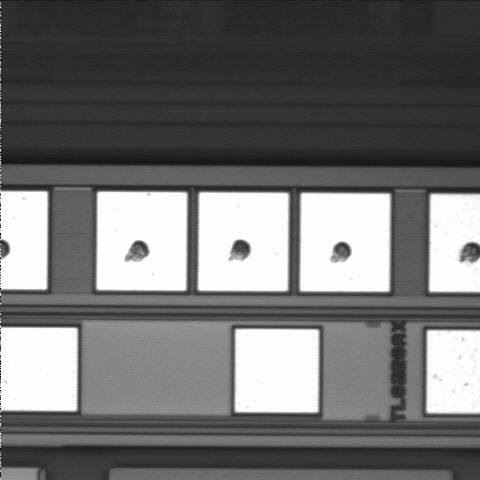pad: (198, 192, 289, 291), (97, 192, 187, 290), (300, 193, 390, 291), (235, 329, 319, 412)
